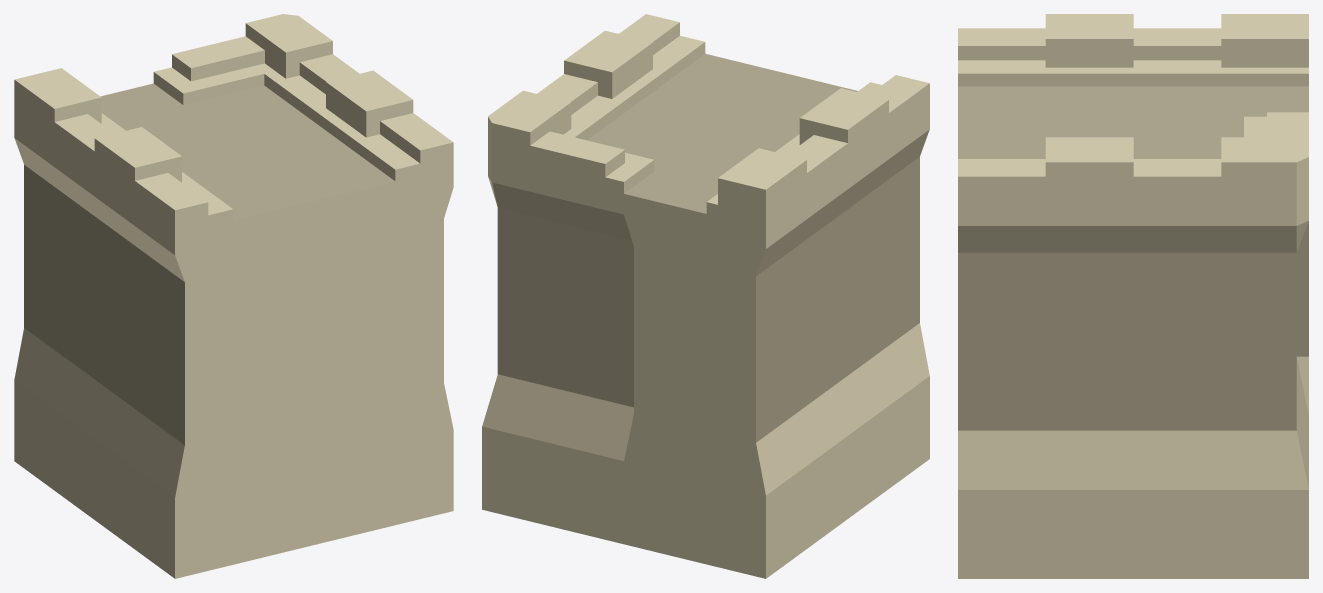
Rendered from wallToNarrow.fbx.
3 views of the same model, side by side, from view 1: azimuth 30°, elevation 25°; view 2: azimuth 150°, elevation 25°; view 3: azimuth 270°, elevation 25° (orthographic). The views are drawn at different scales.
Visible parts, largest first — view 1: wallToNarrow; view 2: wallToNarrow; view 3: wallToNarrow.
Boxes of the visible parts, x1,y1,x2,y2 form: wallToNarrow: (14,14,453,578); wallToNarrow: (482,14,929,578); wallToNarrow: (958,14,1308,578).
Size of the model in its own units: 10 by 13.1 by 10.
